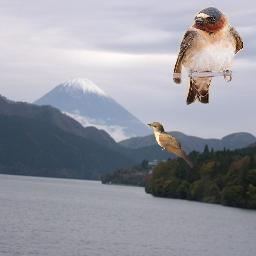Cuckoo: (147, 122, 193, 168)
Swallow: (173, 6, 243, 105)
